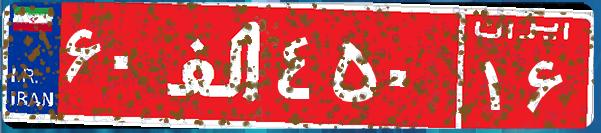0: (385, 28, 445, 110), (110, 28, 158, 105)
1: (475, 38, 525, 113)
4: (273, 28, 330, 110)
5: (330, 28, 385, 110)
6: (57, 26, 110, 107), (525, 38, 570, 115)
الف: (158, 15, 273, 115)
